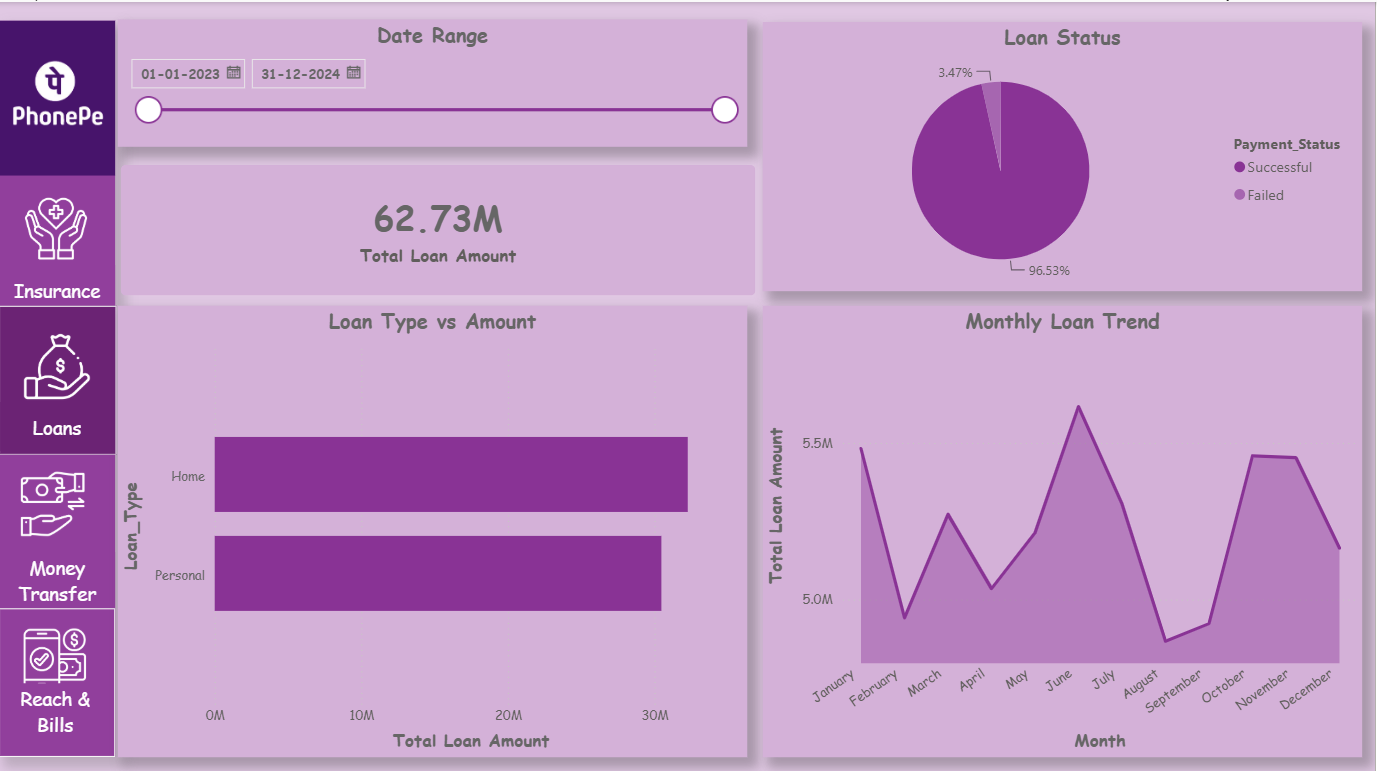

Layout of this report page (visuals, bound fields, positions):
{"tool":"powerbi","page":{"name":"Loans","canvas":[1280,720],"ordinal":2},"visuals":[{"type":"shape","box":[0,17.4,108.1,684.9],"z":0},{"type":"shape","box":[0,17.4,108.1,144.2],"z":1000},{"type":"image","box":[9.3,29.1,90.7,116.3],"z":2000},{"type":"image","box":[16.7,176.7,73.7,68.2],"z":3000},{"type":"shape","box":[0,245.3,108.1,45.3],"z":4000},{"type":"shape","box":[0,282.8,109.3,138.8],"z":5000},{"type":"image","box":[14,304.7,82.6,67.4],"z":6000},{"type":"shape","box":[1.2,372.2,105.7,45.6],"z":7000},{"type":"image","box":[14.4,433.5,72,66],"z":8000},{"type":"shape","box":[0,511.6,108.1,52.3],"z":9000},{"type":"shape","box":[0,564,108.1,138.4],"z":10000},{"type":"image","box":[16.7,577.4,71,66.8],"z":11000},{"type":"shape","box":[2.3,633.7,100,53.5],"z":12000},{"type":"slicer","title":"Date Range","fields":{"Values":["Insurance.Date"]},"box":[109.9,16.7,585.7,118.3],"z":13000},{"type":"cardVisual","fields":{"Data":["Measures (2).Total Loan Amount"]},"box":[96,135,624.7,155.8],"z":14000},{"type":"pieChart","title":"Loan Status","fields":{"Category":["Loans.Payment_Status"],"Y":["Measures (2).Loan Transactions"]},"box":[711,18.1,557.9,250.4],"z":15000},{"type":"clusteredBarChart","title":"Loan Type vs Amount","fields":{"Category":["Loans.Loan_Type"],"Y":["Measures (2).Total Loan Amount"]},"box":[109.9,282.4,585.7,420.2],"z":16000},{"type":"areaChart","title":"Monthly Loan Trend","fields":{"Category":["Calendar.Month"],"Y":["Measures (2).Total Loan Amount"]},"box":[711,282.4,557.9,420.2],"z":17000}]}

Visuals, with their boxes in screenshot pixels (x1, y1, x2, y2), scaled from the page's 1280x720 canvas onto the 1377x771 screenshot:
shape: box(0, 19, 116, 752)
shape: box(0, 19, 116, 173)
image: box(10, 31, 108, 156)
image: box(18, 189, 97, 262)
shape: box(0, 263, 116, 311)
shape: box(0, 303, 118, 451)
image: box(15, 326, 104, 398)
shape: box(1, 399, 115, 447)
image: box(15, 464, 93, 535)
shape: box(0, 548, 116, 604)
shape: box(0, 604, 116, 752)
image: box(18, 618, 94, 690)
shape: box(2, 679, 110, 736)
"Date Range" slicer: box(118, 18, 748, 145)
cardVisual - Measures (2).Total Loan Amount: box(103, 145, 775, 311)
"Loan Status" pieChart: box(765, 19, 1365, 288)
"Loan Type vs Amount" clusteredBarChart: box(118, 302, 748, 752)
"Monthly Loan Trend" areaChart: box(765, 302, 1365, 752)
